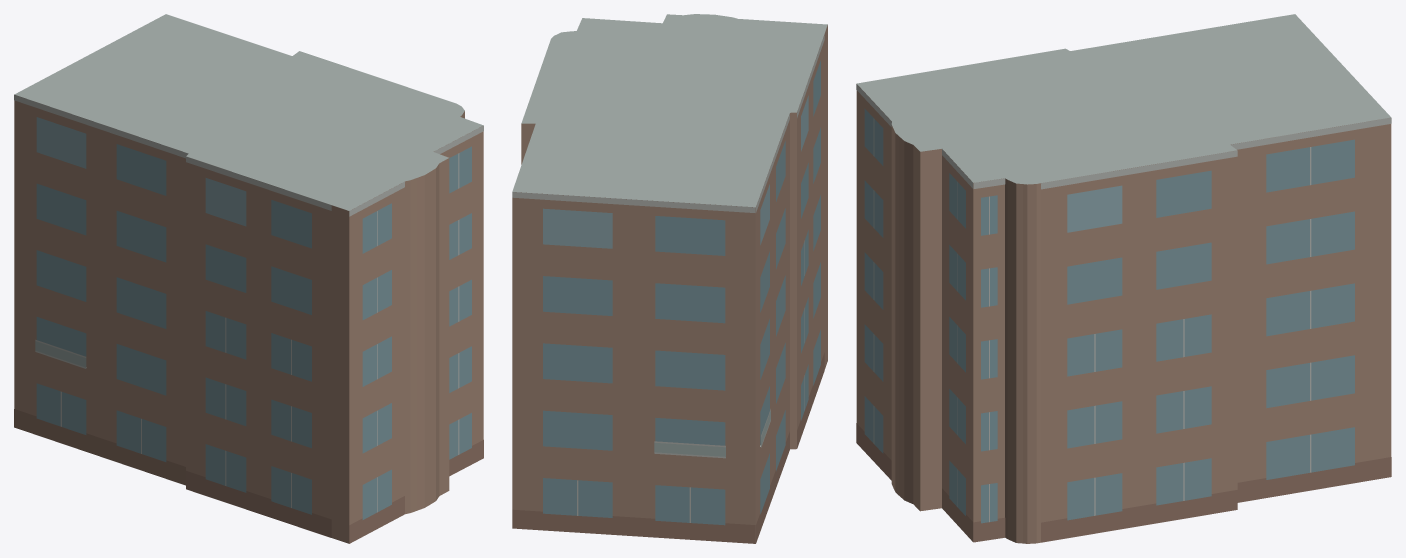
Rendered from survey-upis-32837237.glb.
The picture shows the model from 3 angles, left to right: view 1: azimuth 30°, elevation 25°; view 2: azimuth 150°, elevation 25°; view 3: azimuth 270°, elevation 25°; orthographic projection. The views are drawn at different scales.
Parts seen in each view (by area): view 1: survey-upis-32837237.tmp; view 2: survey-upis-32837237.tmp; view 3: survey-upis-32837237.tmp.
Boxes of the visible parts, <box> form: survey-upis-32837237.tmp: <box>14,14,483,543</box>; survey-upis-32837237.tmp: <box>512,14,827,543</box>; survey-upis-32837237.tmp: <box>856,14,1391,543</box>.
Size of the model in its own units: 14.19 by 13.95 by 18.82.
